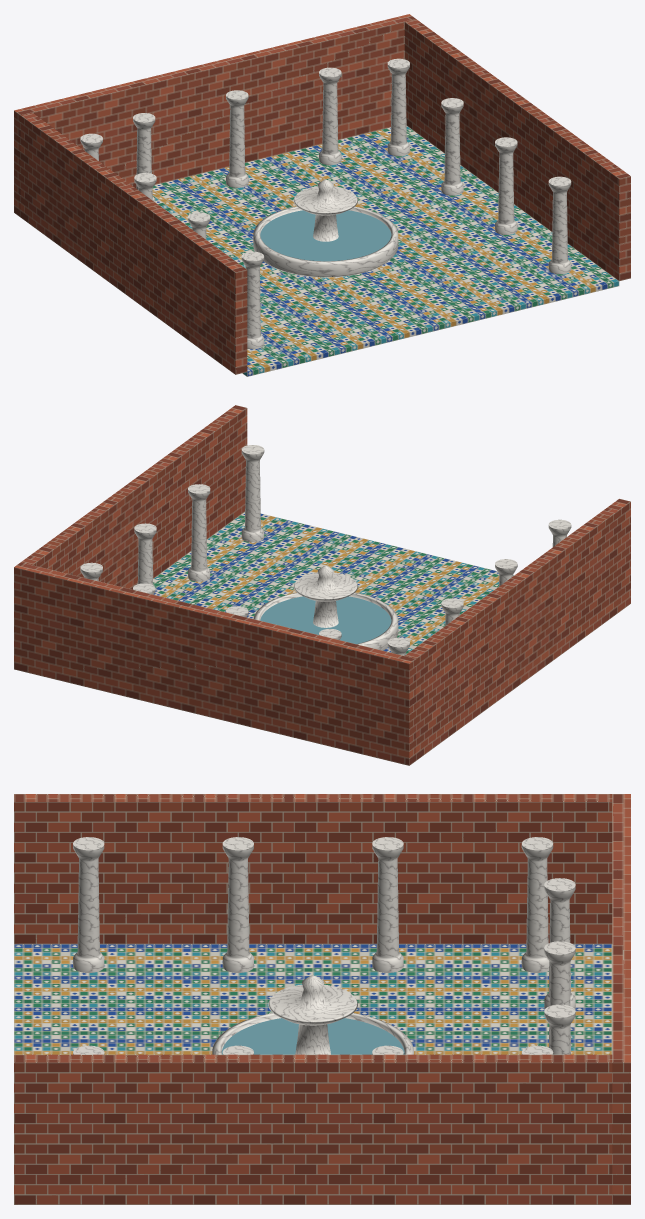
Rendered from source.gltf.
3 views of the same model, one above another, from view 1: azimuth 30°, elevation 25°; view 2: azimuth 150°, elevation 25°; view 3: azimuth 270°, elevation 25° (orthographic). The views are drawn at different scales.
Visible parts, largest first — view 1: walls, floor, column (×8), fountain, water; view 2: walls, floor, column (×3), water, fountain; view 3: walls, floor, column (×7), fountain, water.
Boxes of the visible parts, left/top/right/bottom form: walls: left=14, top=14, right=630, bottom=374; floor: left=152, top=126, right=619, bottom=376; column (×8): left=133, top=58, right=571, bottom=349; fountain: left=253, top=179, right=398, bottom=277; water: left=260, top=210, right=391, bottom=261; walls: left=14, top=405, right=630, bottom=765; floor: left=153, top=512, right=513, bottom=654; column (×3): left=134, top=445, right=264, bottom=584; water: left=260, top=596, right=391, bottom=643; fountain: left=253, top=566, right=398, bottom=650; walls: left=14, top=794, right=630, bottom=1204; floor: left=14, top=944, right=612, bottom=1054; column (×7): left=73, top=837, right=575, bottom=1054; fountain: left=212, top=975, right=413, bottom=1054; water: left=221, top=1018, right=404, bottom=1054.
Size of the model in its own units: 8.5 by 2.2 by 8.25.
